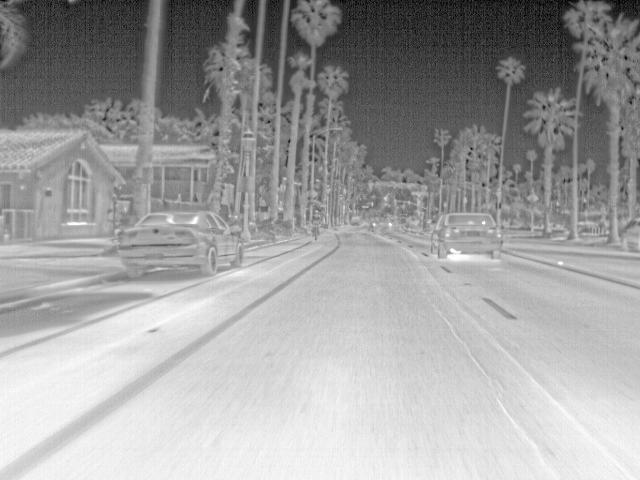car: (113, 206, 251, 278), (433, 211, 502, 261), (350, 211, 365, 227)
person: (310, 208, 323, 236)
